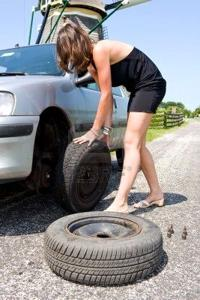person: (57, 22, 168, 213)
